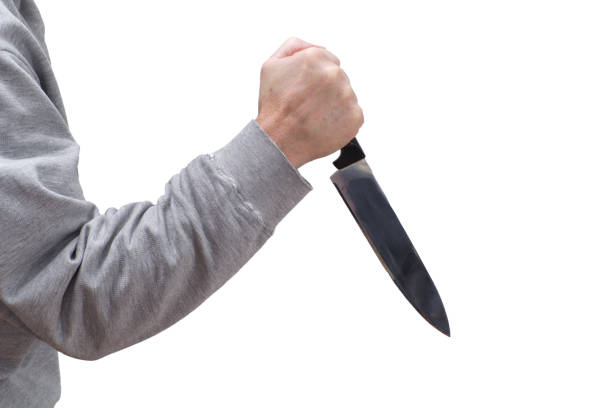knife: (327, 135, 454, 341)
